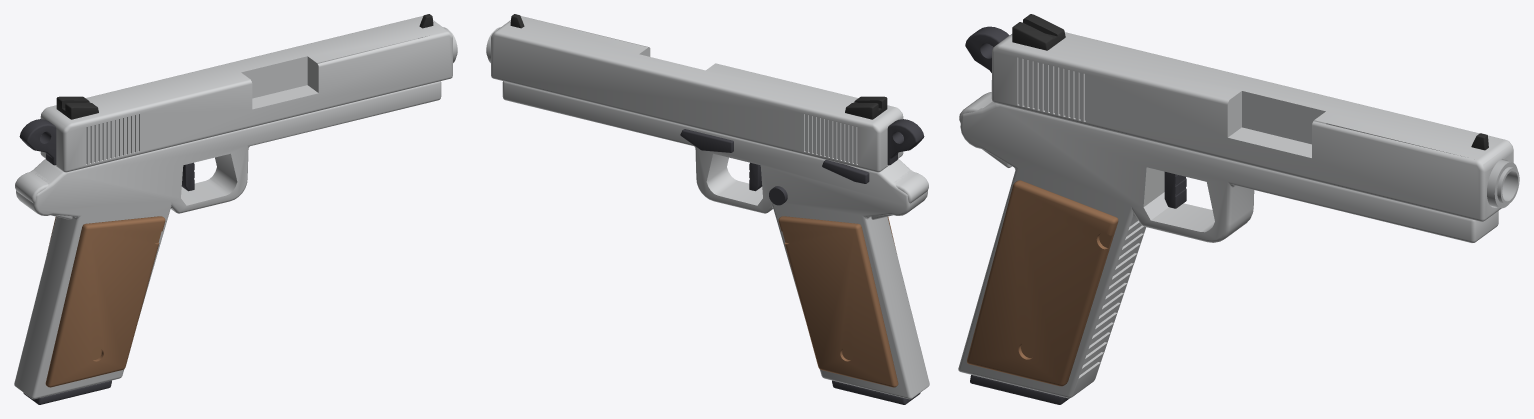
3 views of the same model, side by side, from view 1: azimuth 30°, elevation 25°; view 2: azimuth 150°, elevation 25°; view 3: azimuth 330°, elevation 25° (orthographic). The views are drawn at different scales.
Parts seen in each view (by area): view 1: Slide, Frame, GripRight, Hammer, RearSight, GripSafety, MagBase; view 2: Slide, Frame, GripLeft, Hammer, SlideStop, RearSight, GripSafety, MagBase, ThumbSafety; view 3: Slide, Frame, GripRight, RearSight, Hammer, MagBase, Trigger, Barrel, Bushing.
Boxes of the visible parts, box(x1,y1,x2,y2) form: Slide: box(40, 16, 452, 172); Frame: box(14, 81, 441, 399); GripRight: box(45, 216, 165, 387); Hammer: box(19, 119, 56, 165); RearSight: box(56, 96, 98, 119); GripSafety: box(15, 170, 72, 219); MagBase: box(23, 380, 111, 404); Slide: box(491, 16, 903, 172); Frame: box(502, 81, 929, 399); GripLeft: box(778, 216, 898, 387); Hammer: box(887, 119, 924, 165); SlideStop: box(680, 129, 733, 152); RearSight: box(845, 96, 887, 119); GripSafety: box(871, 170, 928, 219); MagBase: box(832, 380, 920, 404); ThumbSafety: box(822, 160, 869, 183); Slide: box(991, 32, 1513, 221); Frame: box(958, 101, 1498, 398); GripRight: box(967, 180, 1118, 386); RearSight: box(1012, 14, 1065, 50); Hammer: box(965, 26, 1009, 72); MagBase: box(970, 375, 1069, 404); Trigger: box(1164, 172, 1186, 208); Barrel: box(1497, 167, 1519, 204); Bushing: box(1487, 159, 1517, 208).
Bounding box in the file's own units: 0.2282 × 0.1478 × 0.0274.
